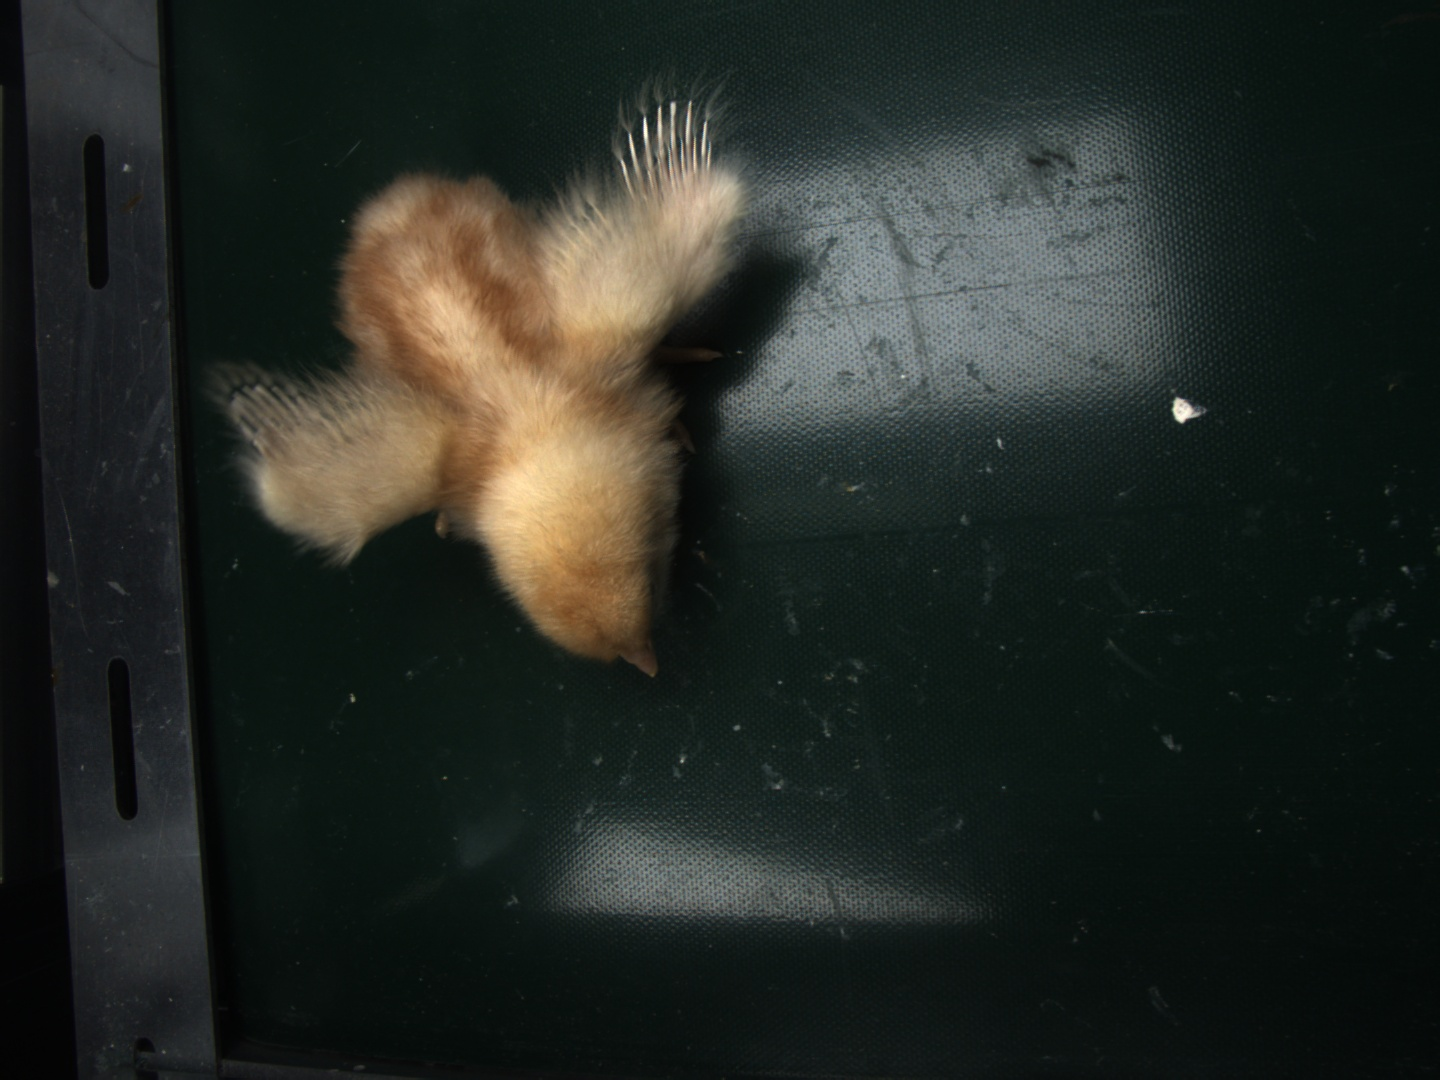female: (616, 98, 715, 205)
